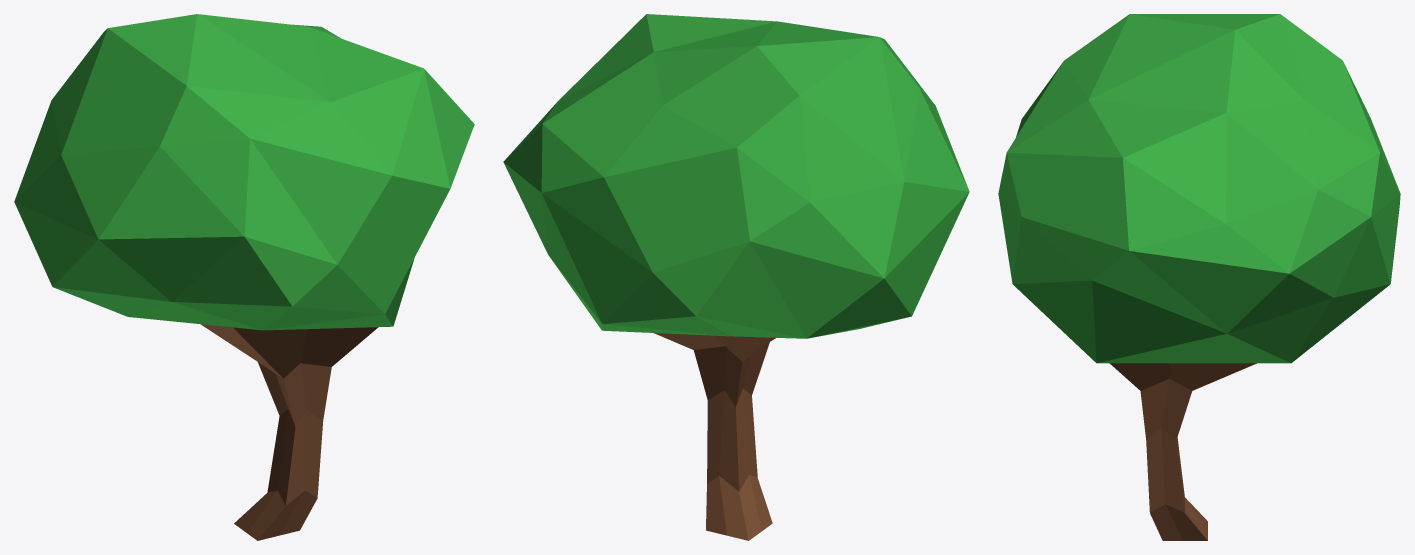
The model's file is Tree_35_Green.fbx.
The picture shows the model from 3 angles, left to right: view 1: azimuth 30°, elevation 25°; view 2: azimuth 150°, elevation 25°; view 3: azimuth 270°, elevation 25°; orthographic projection. The views are drawn at different scales.
Parts seen in each view (by area): view 1: Tree_35_Green_Part_1, Tree_35_Green_Part_2; view 2: Tree_35_Green_Part_1, Tree_35_Green_Part_2; view 3: Tree_35_Green_Part_1, Tree_35_Green_Part_2.
Boxes of the visible parts, x1,y1,x2,y2 form: Tree_35_Green_Part_1: (14,14,474,330); Tree_35_Green_Part_2: (201,324,377,540); Tree_35_Green_Part_1: (503,14,969,338); Tree_35_Green_Part_2: (654,333,775,540); Tree_35_Green_Part_1: (998,14,1400,363); Tree_35_Green_Part_2: (1110,363,1256,540).
Bounding box in the file's own units: 636 × 815 × 618.
